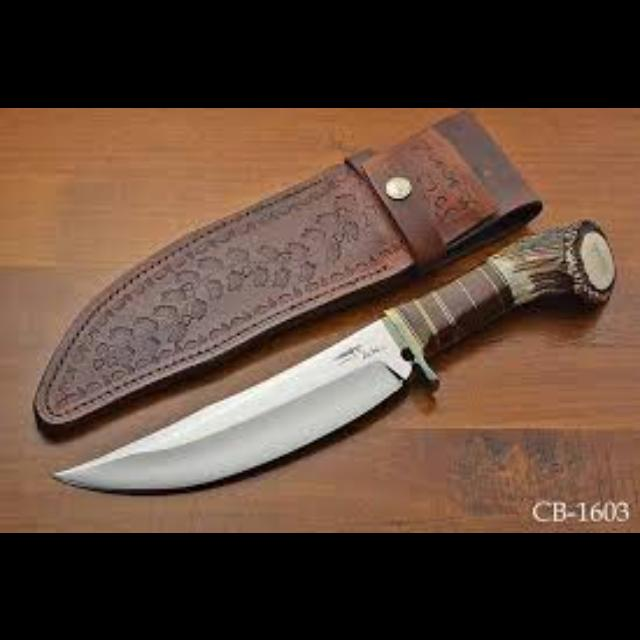Knife: (50, 214, 614, 493)
